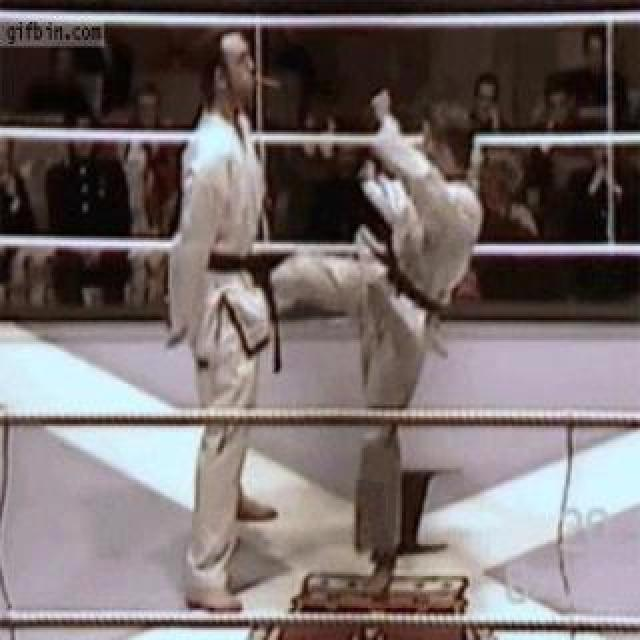fight: (173, 16, 489, 640)
